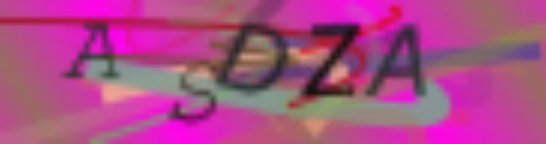A: (364, 19, 430, 97), (64, 16, 118, 81)
D: (217, 22, 292, 94)
S: (165, 58, 223, 125)
Z: (296, 20, 369, 101)
